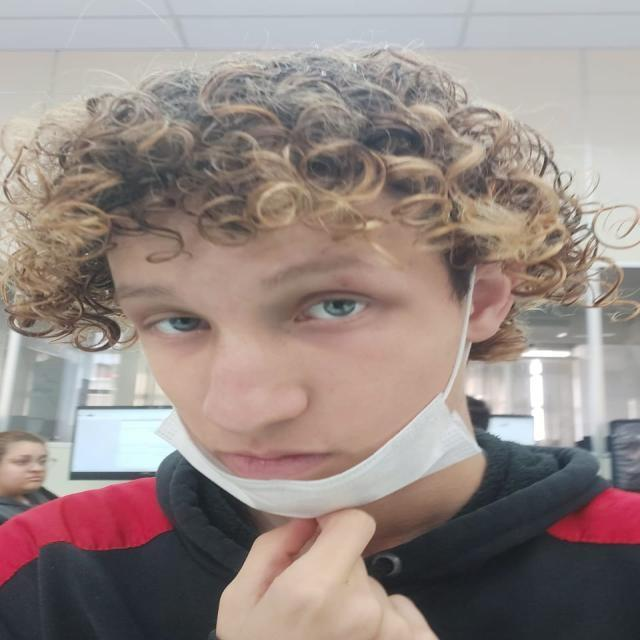hairnet: (124, 336, 481, 507)
